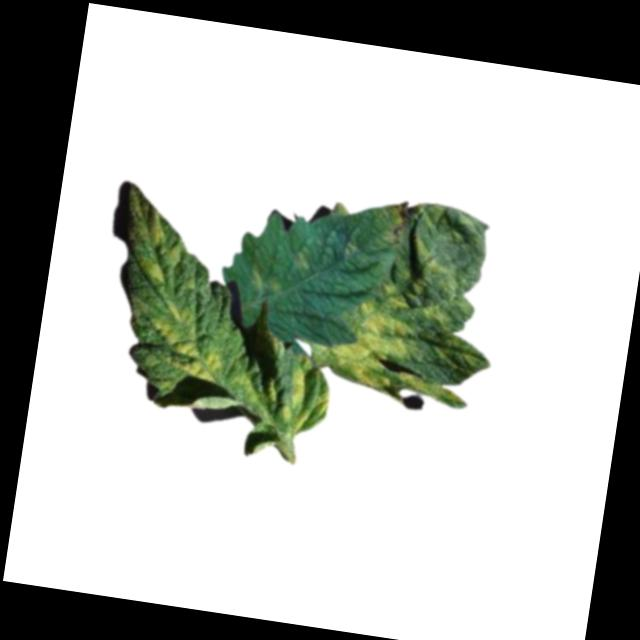Leaf_Mold: (307, 273, 421, 395), (141, 318, 226, 385), (279, 362, 334, 435), (139, 213, 186, 287), (246, 261, 282, 296)
